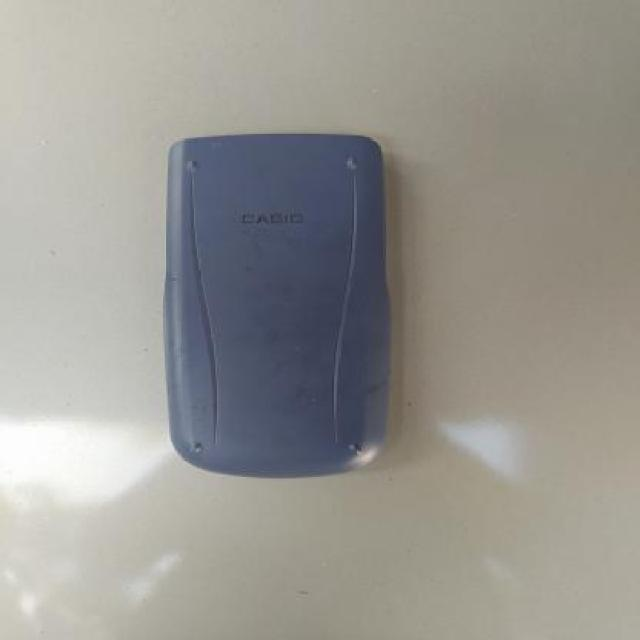Calculator: (148, 119, 404, 488)
